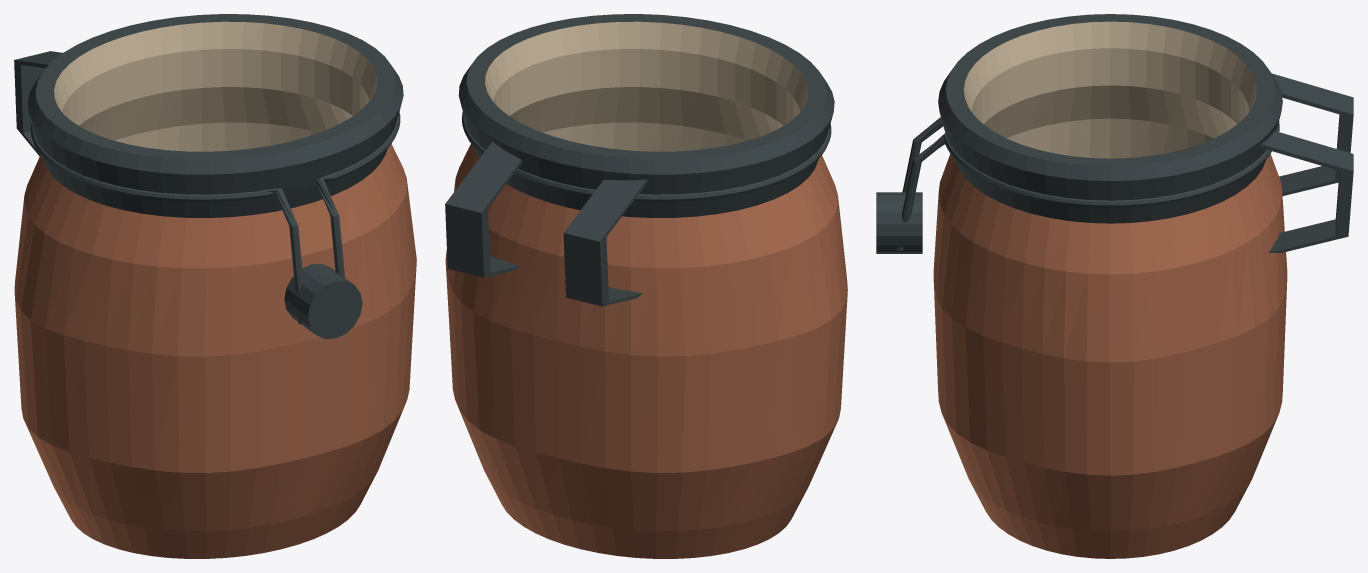
The picture shows the model from 3 angles, left to right: view 1: azimuth 30°, elevation 25°; view 2: azimuth 150°, elevation 25°; view 3: azimuth 270°, elevation 25°; orthographic projection. The views are drawn at different scales.
Parts seen in each view (by area): view 1: WholeBulgingSingleChamberAndRolledMouthBag, WholeNeckDrawcordAndBothContinuousTails, WholeFrontCordlockExterior, WholeLeftRearBeltArch; view 2: WholeBulgingSingleChamberAndRolledMouthBag, WholeLeftRearBeltArch, WholeRightRearBeltArch, WholeNeckDrawcordAndBothContinuousTails; view 3: WholeBulgingSingleChamberAndRolledMouthBag, WholeNeckDrawcordAndBothContinuousTails, WholeRightRearBeltArch, WholeLeftRearBeltArch, WholeFrontCordlockExterior.
Part boxes in pixels (<box>): WholeBulgingSingleChamberAndRolledMouthBag: <box>14,14,416,558</box>; WholeNeckDrawcordAndBothContinuousTails: <box>30,112,400,324</box>; WholeFrontCordlockExterior: <box>284,263,362,338</box>; WholeLeftRearBeltArch: <box>14,51,62,156</box>; WholeBulgingSingleChamberAndRolledMouthBag: <box>445,14,847,558</box>; WholeLeftRearBeltArch: <box>563,179,647,306</box>; WholeRightRearBeltArch: <box>445,142,522,277</box>; WholeNeckDrawcordAndBothContinuousTails: <box>462,112,831,201</box>; WholeBulgingSingleChamberAndRolledMouthBag: <box>933,14,1287,558</box>; WholeNeckDrawcordAndBothContinuousTails: <box>896,117,1279,250</box>; WholeRightRearBeltArch: <box>1260,131,1353,252</box>; WholeLeftRearBeltArch: <box>1272,73,1353,195</box>; WholeFrontCordlockExterior: <box>876,192,922,253</box>.
Bounding box in the file's own units: 0.1624 × 0.174 × 0.1855.
